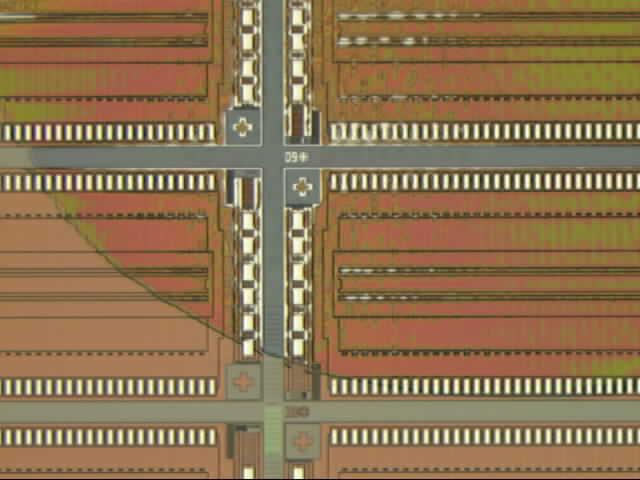COATING BAD: (1, 1, 640, 402)
